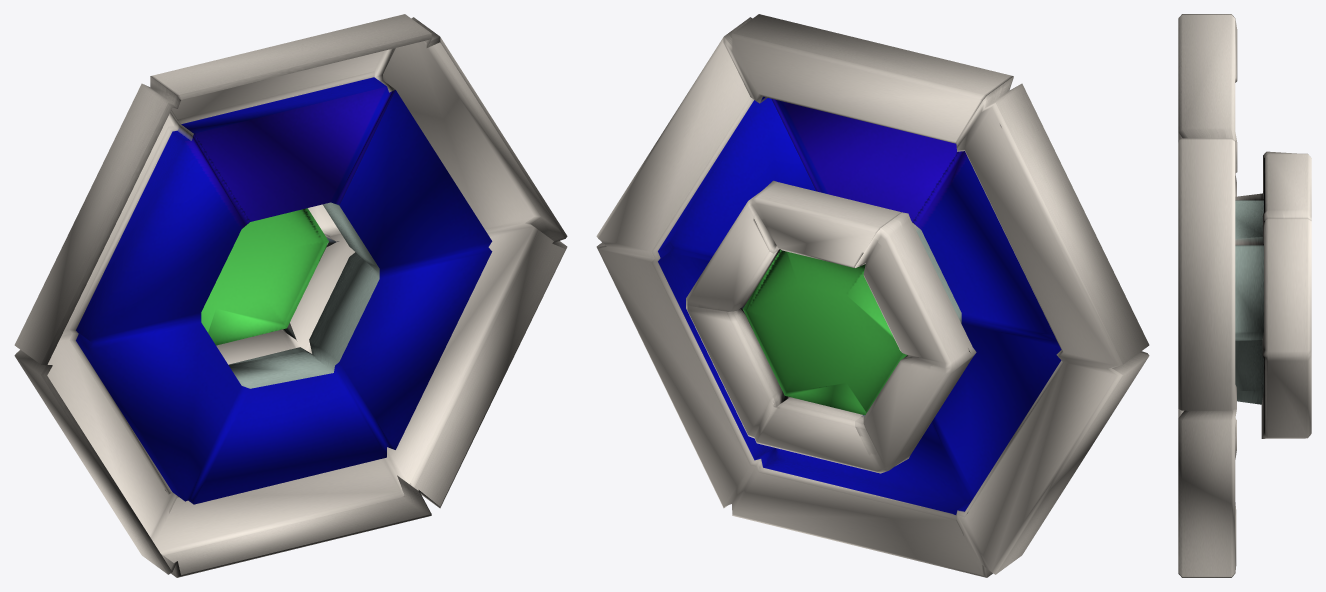
Rendered from Fountain.fbx.
3 renders of one model, left to right at view 1: azimuth 30°, elevation 25°; view 2: azimuth 150°, elevation 25°; view 3: azimuth 270°, elevation 25°, orthographic. The views are drawn at different scales.
Visible parts, largest first — view 1: Fountain; view 2: Fountain; view 3: Fountain.
Part boxes in pixels (x1,y1,x2,y2): Fountain: (14, 14, 567, 577); Fountain: (596, 14, 1149, 577); Fountain: (1178, 14, 1311, 577).
Size of the model in its own units: 59360 by 51962 by 14000.
